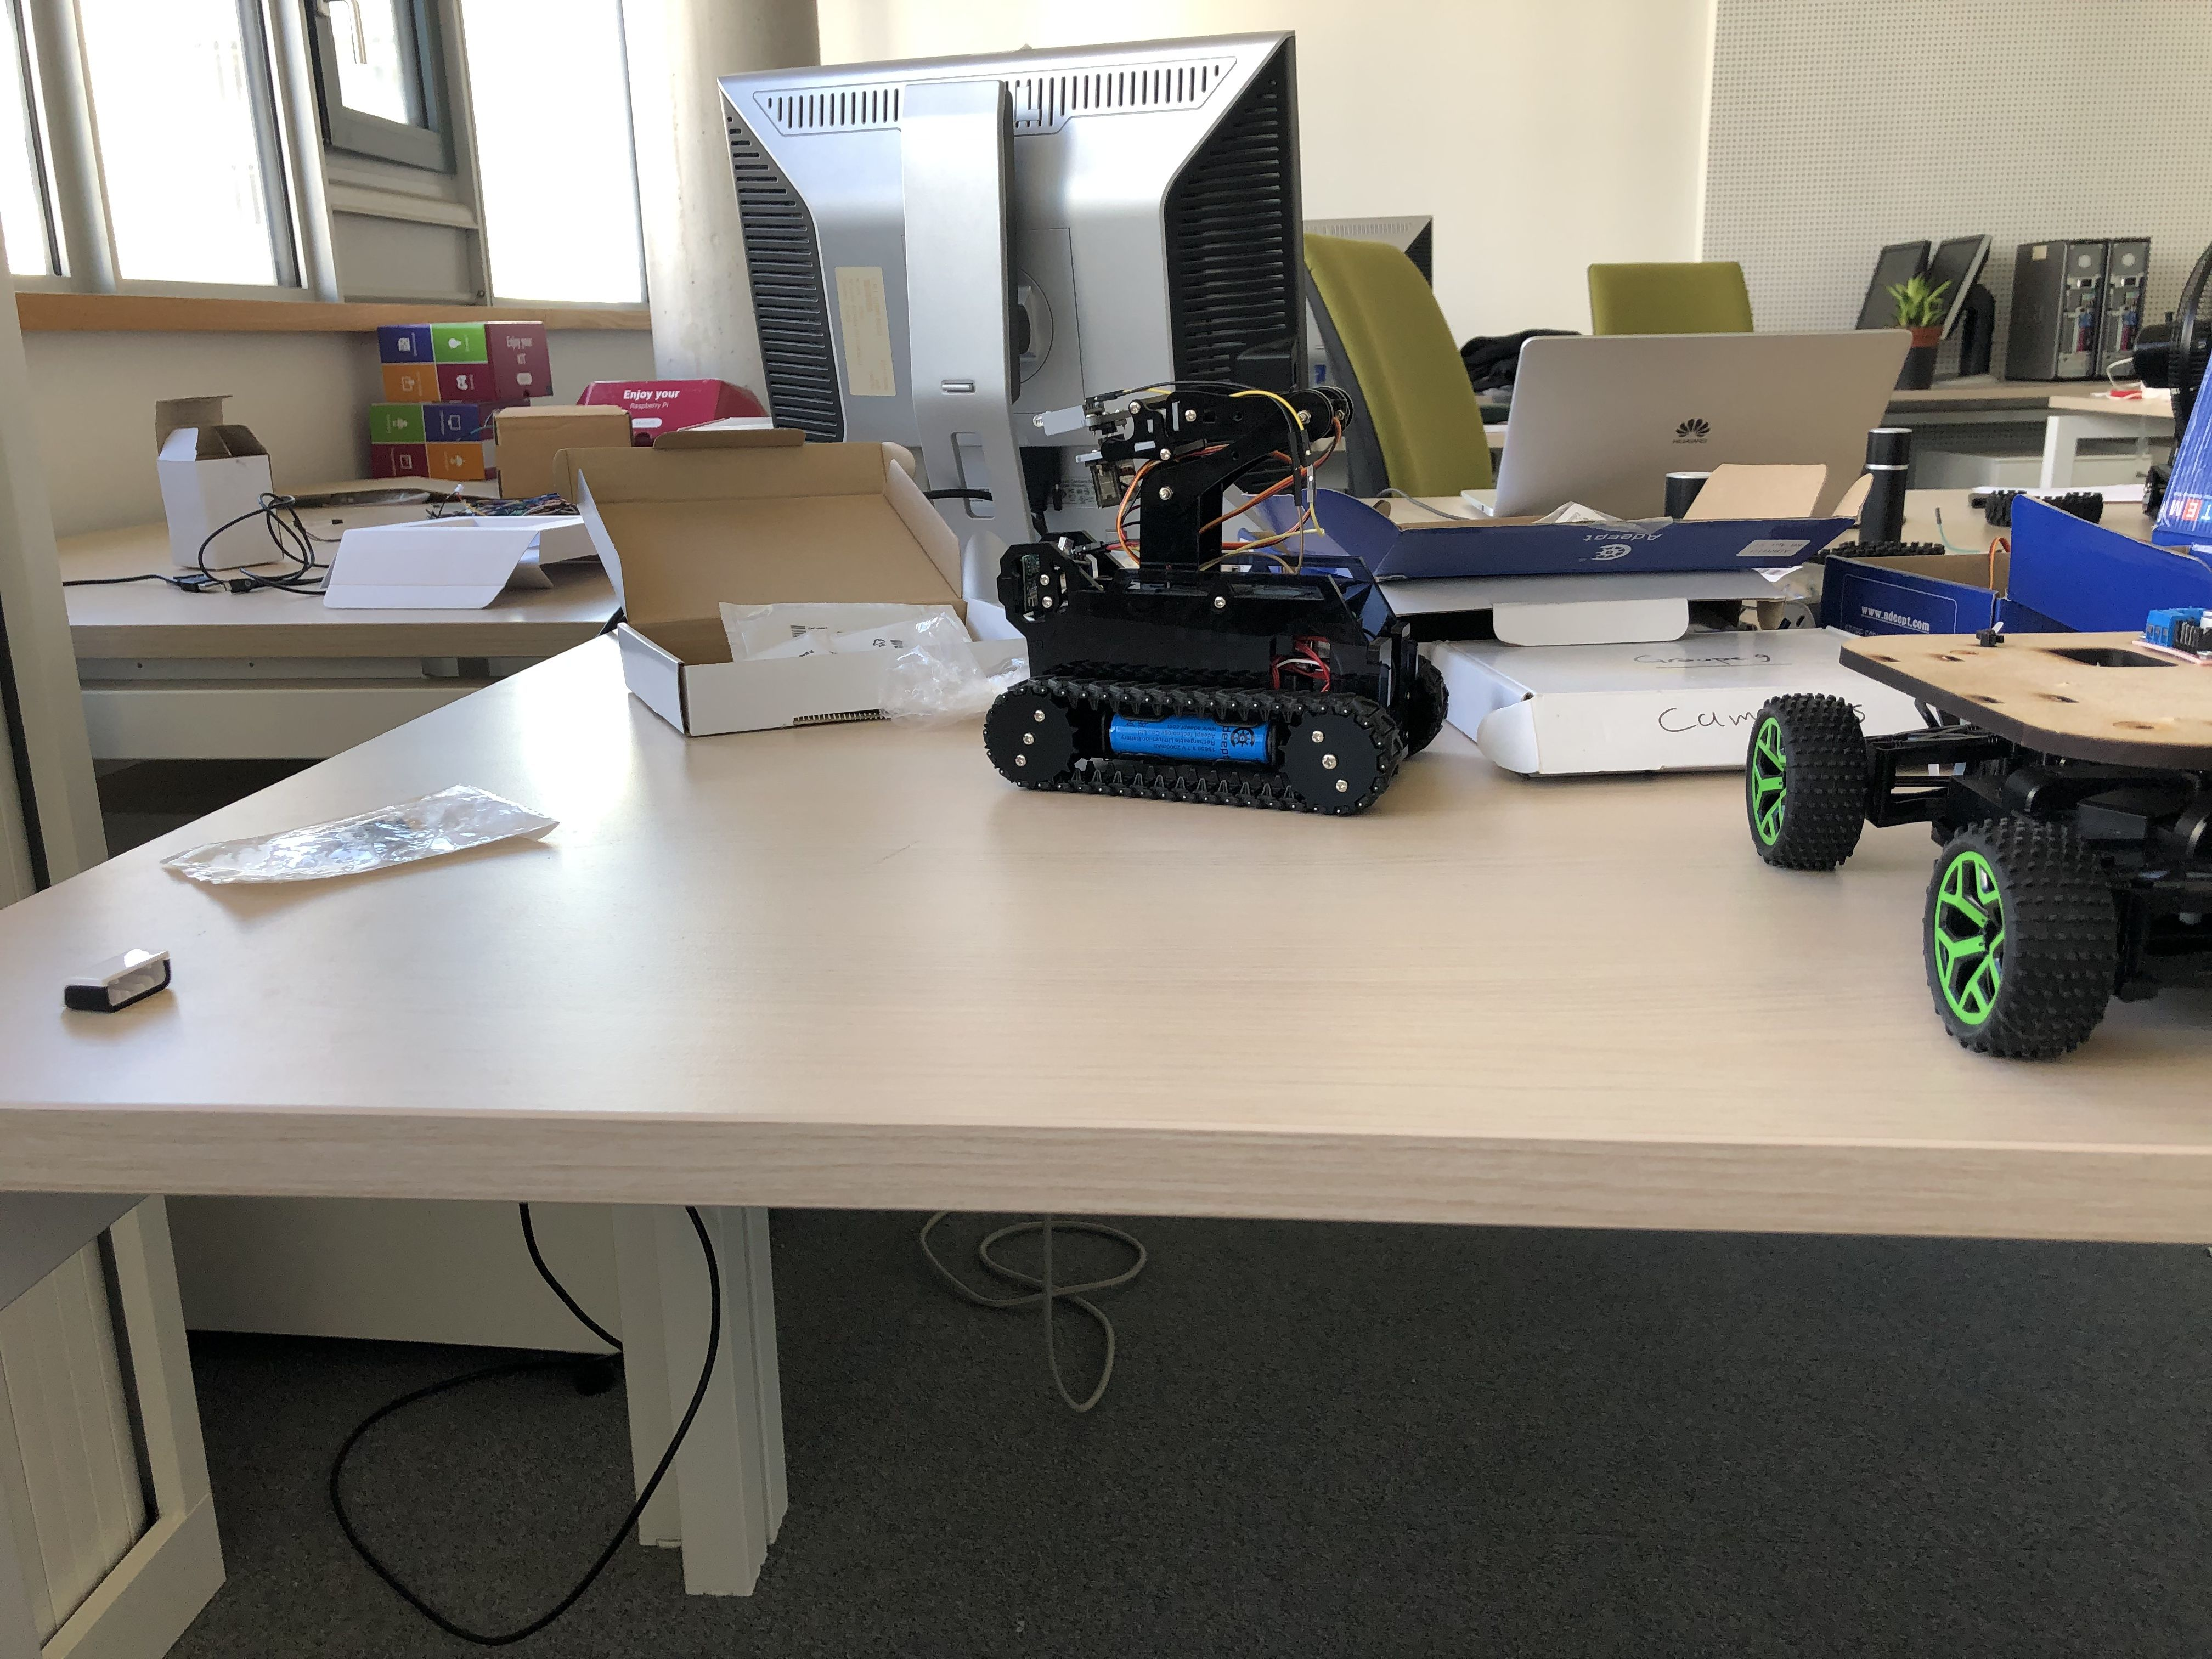rasptank: (979, 375, 1454, 817)
